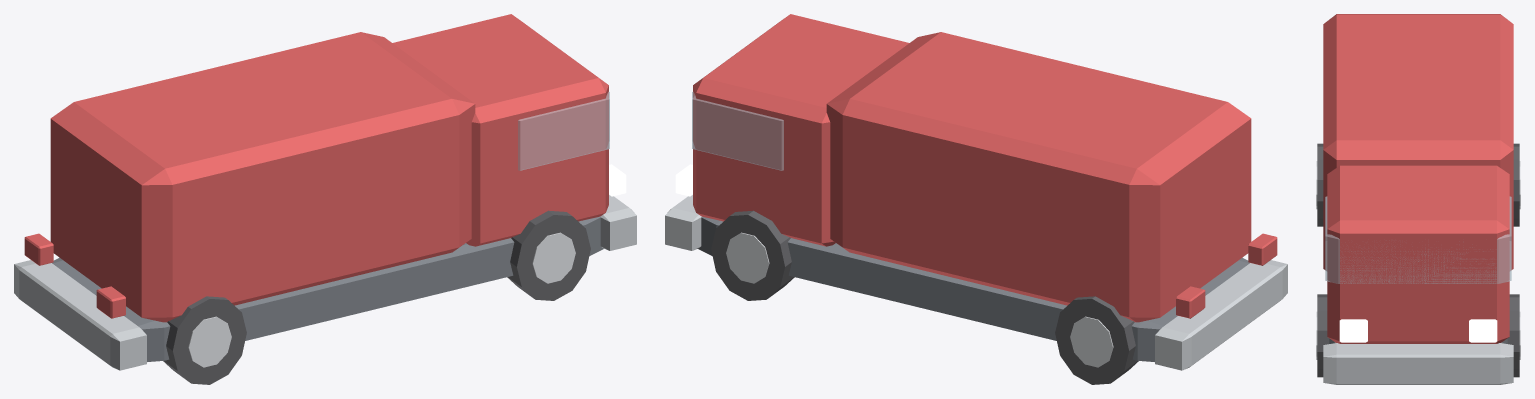
File: b15_wildland_brush_fire_truck.glb
3 renders of one model, left to right at view 1: azimuth 30°, elevation 25°; view 2: azimuth 150°, elevation 25°; view 3: azimuth 270°, elevation 25°, orthographic. The views are drawn at different scales.
Visible parts, largest first — view 1: b15_wildland_brush_fire_truck; view 2: b15_wildland_brush_fire_truck; view 3: b15_wildland_brush_fire_truck.
Part boxes in pixels (box(x1,y1,x2,y2)): b15_wildland_brush_fire_truck: box(14, 14, 636, 384); b15_wildland_brush_fire_truck: box(665, 14, 1287, 384); b15_wildland_brush_fire_truck: box(1316, 14, 1520, 384).
Size of the model in its own units: 7.32 by 2.9 by 2.77.
